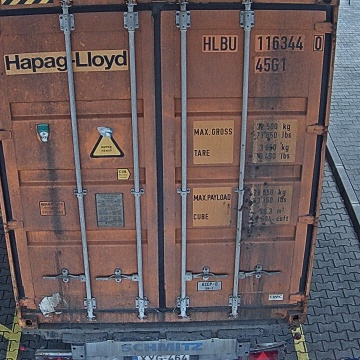serial_id: (202, 35, 322, 50)
